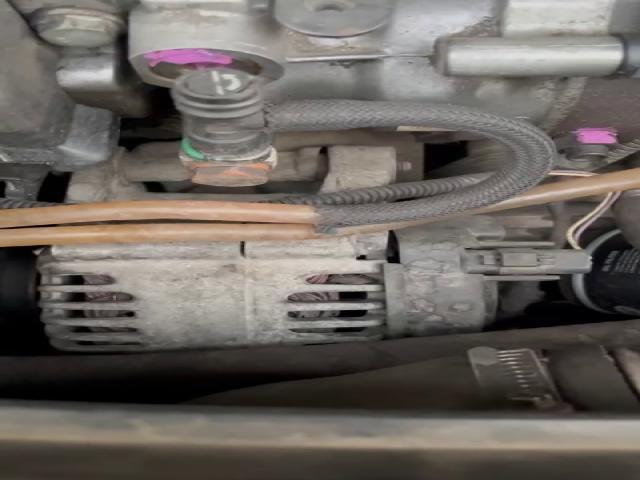alternator: (38, 232, 386, 352)
high_pressure_pump: (124, 0, 640, 185)
